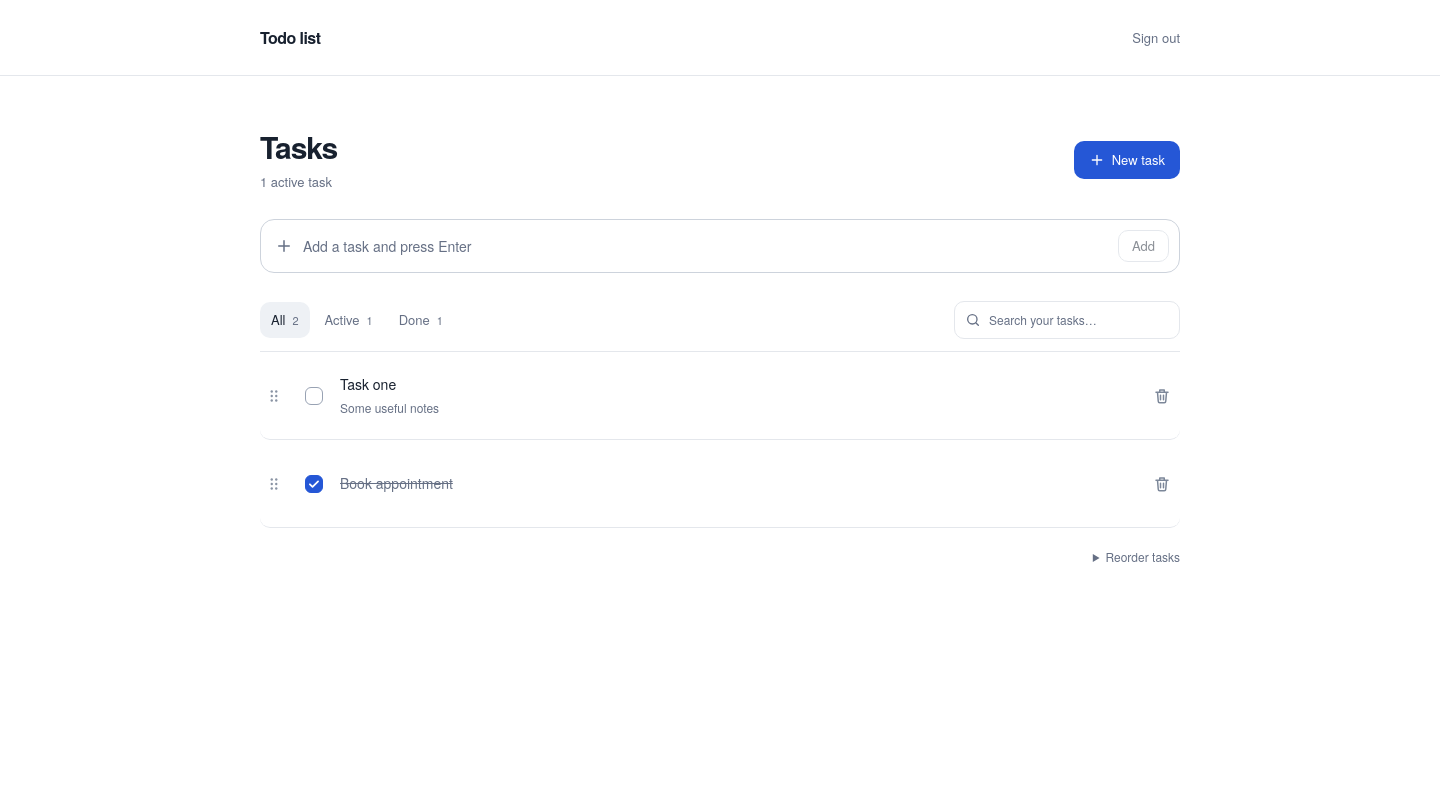
Test: task list › keeps the task and shows a toast when a save fails
The image size is (1440, 810).
Expected: the text "Task one" is shown, 340,374 -> 396,394
Click the checkbox named "Mark \"Task one\" as done". click: (314, 396)
box: 305,386 -> 323,404
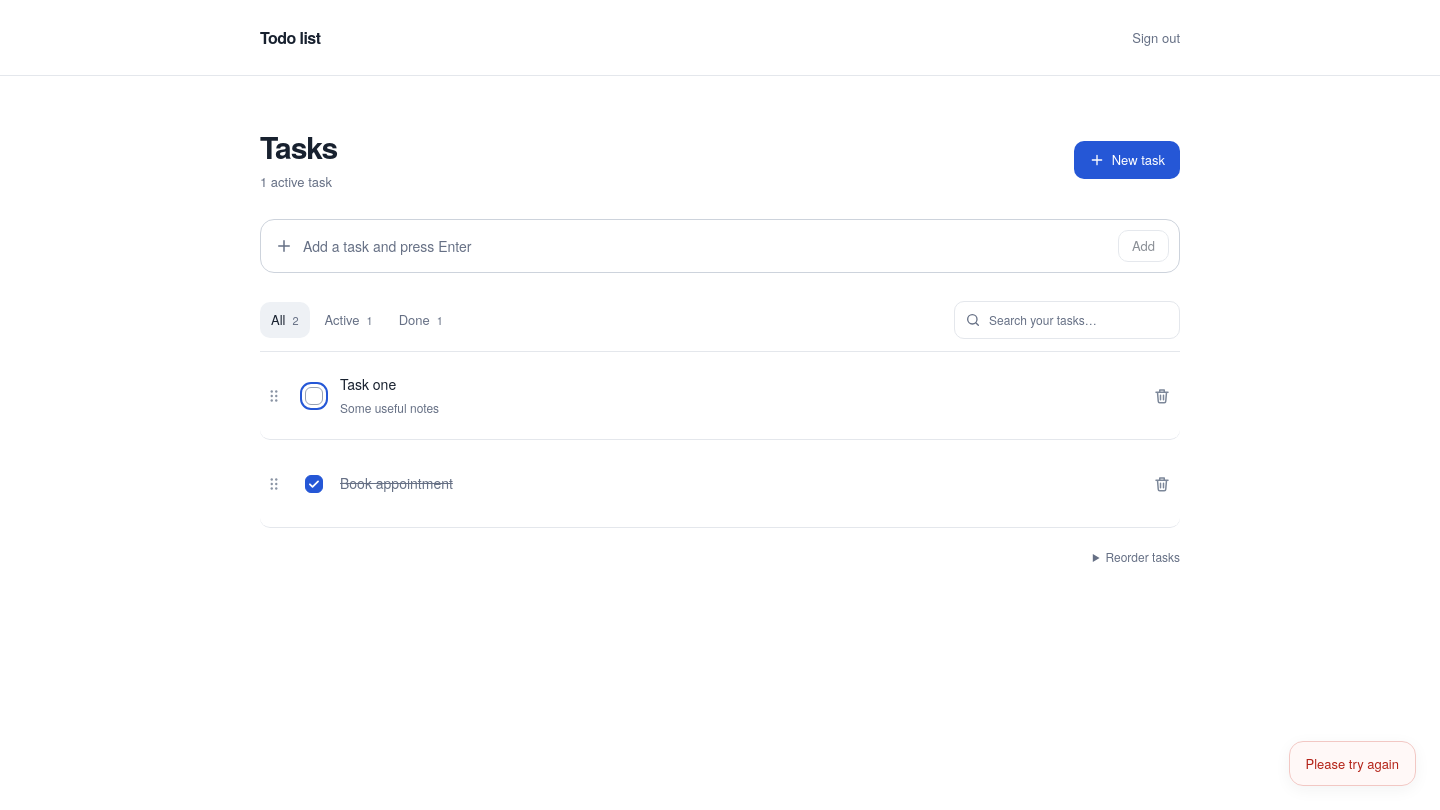
Expected: the button "Please try again" is shown
Click the button "Please try again". click: (1352, 763)
box: 1288,740 -> 1416,786
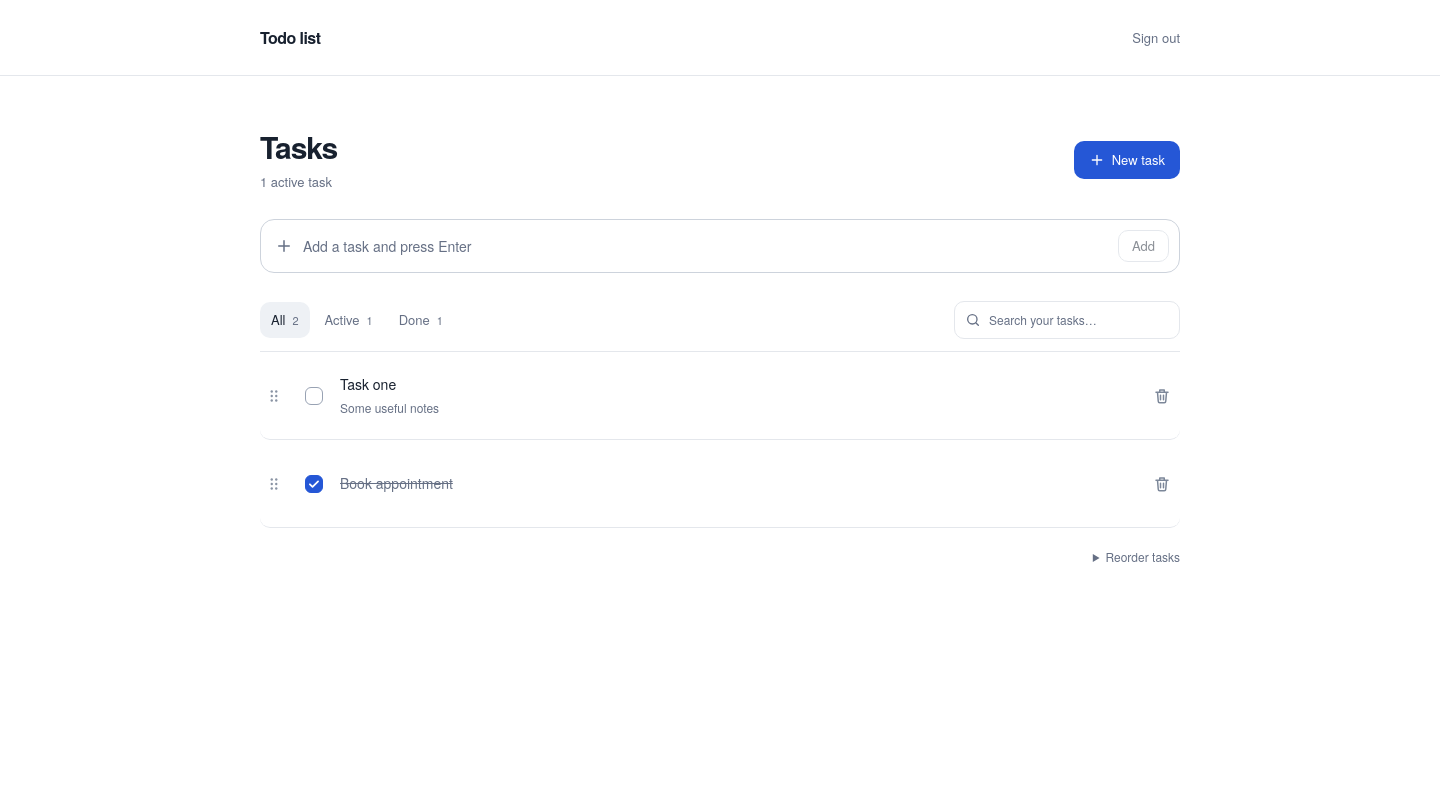
Expected: the button "Please try again" is gone
